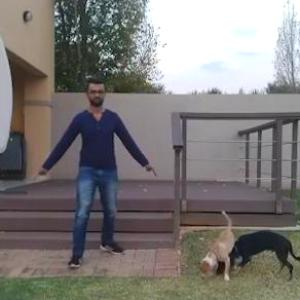land: (15, 81, 156, 274)
